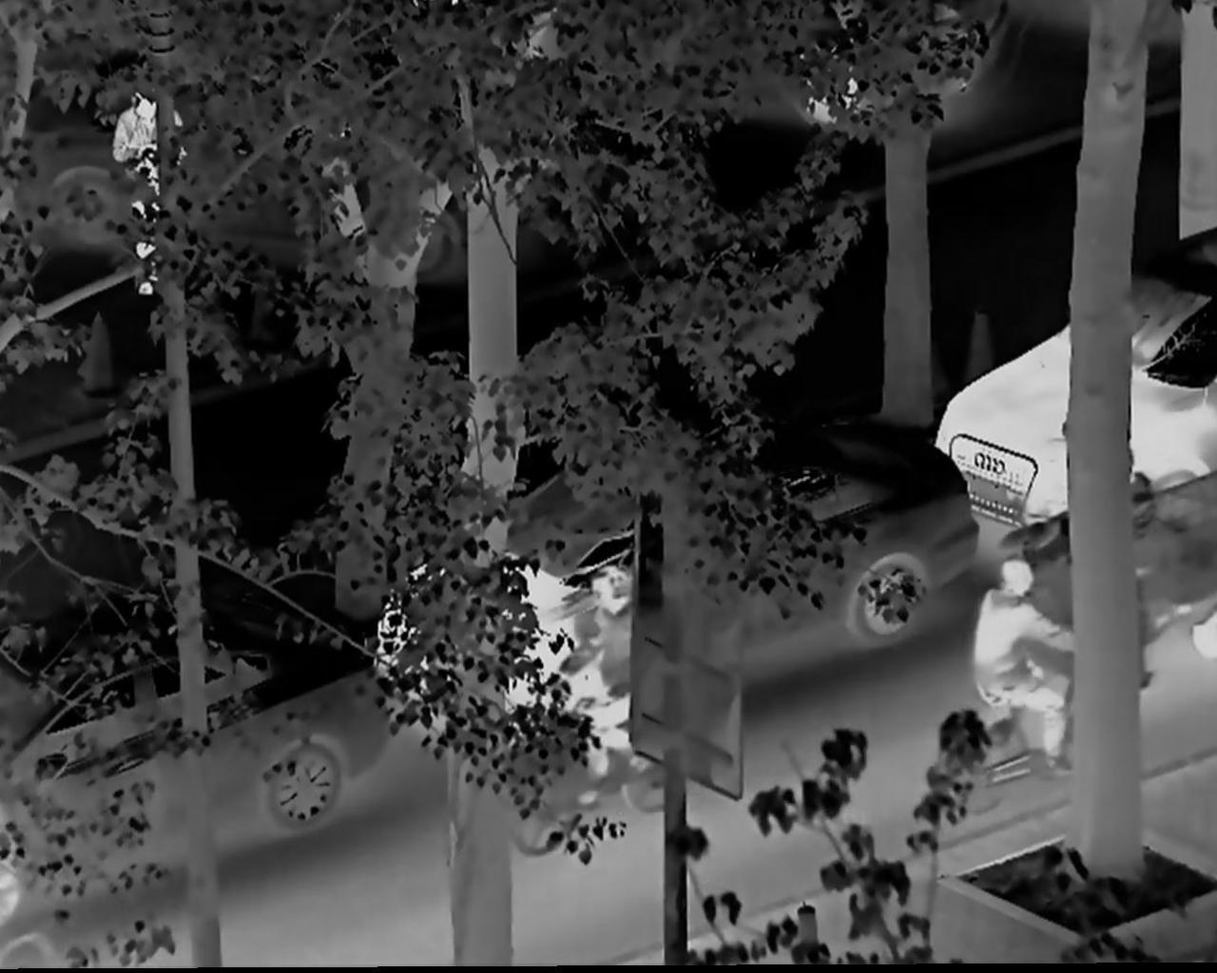person: (546, 567, 685, 787), (964, 557, 1098, 773), (109, 92, 191, 306)
